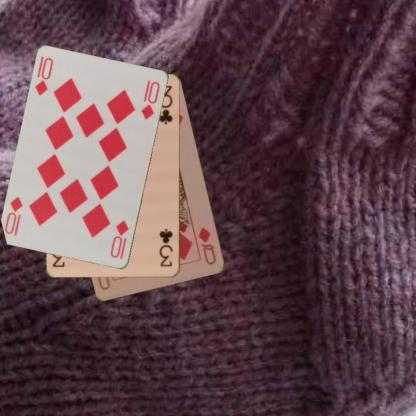10d: (32, 55, 55, 98), (107, 218, 130, 260)
3c: (156, 227, 174, 268)
Qd: (195, 225, 218, 266)
